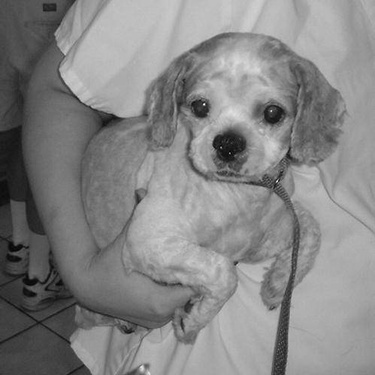dog: (51, 25, 356, 344)
